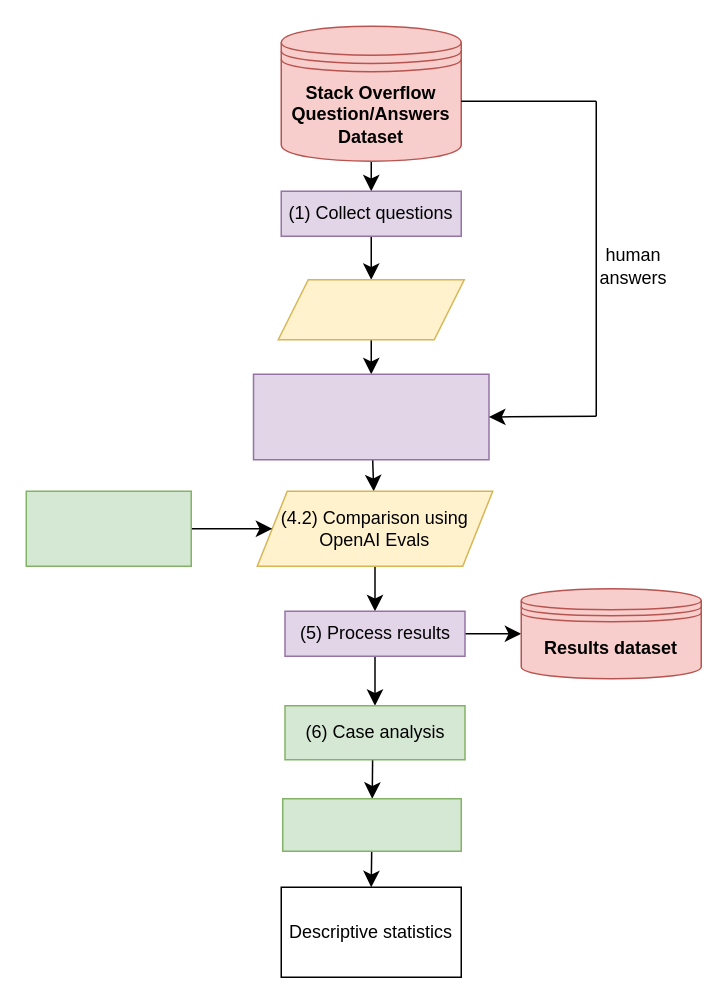
The diagram is 728 pixels wide and 1004 high, and some of its shapes have lost their labels. The shapes that lost their labels are listed below. From the top down, each one's centre as x and y in pixels, then its label:
point (370, 309): (2) Extract GPT's answers
point (370, 416): (3) Create samples included: questions, chatGPT answers, human answers
point (108, 528): (4.1) Select test and custom template
point (371, 824): (7) Human evaluation
